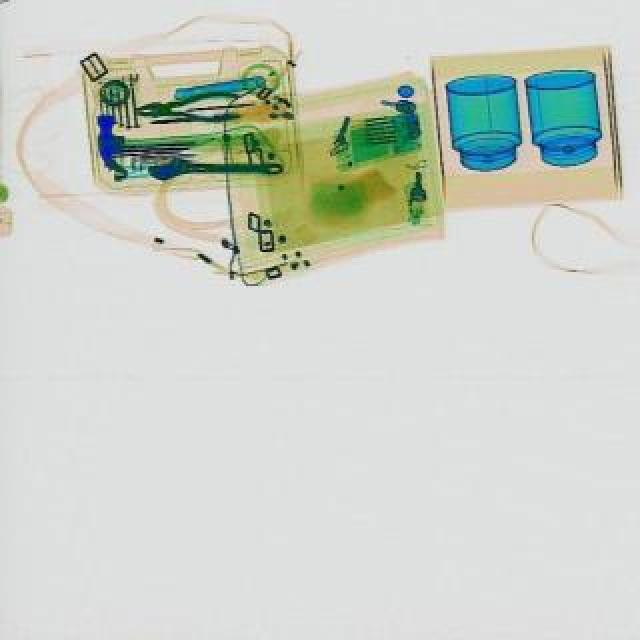scissors: (148, 158, 282, 182)
wrench: (132, 92, 238, 132)
